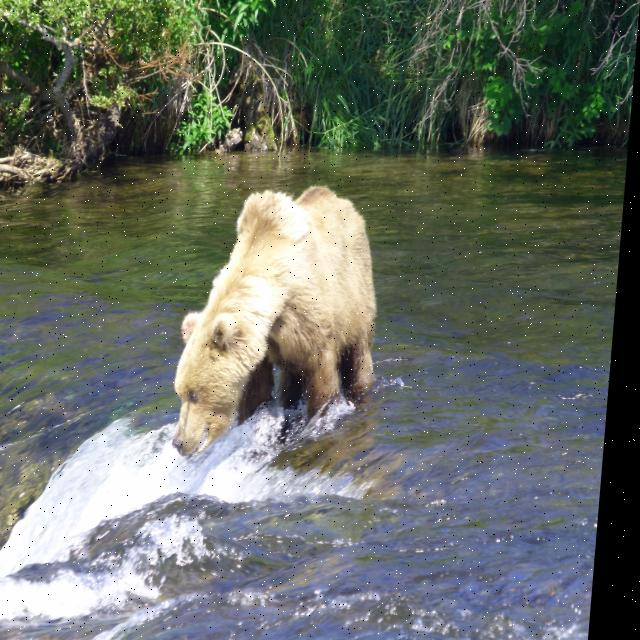bear face: (175, 187, 395, 459)
